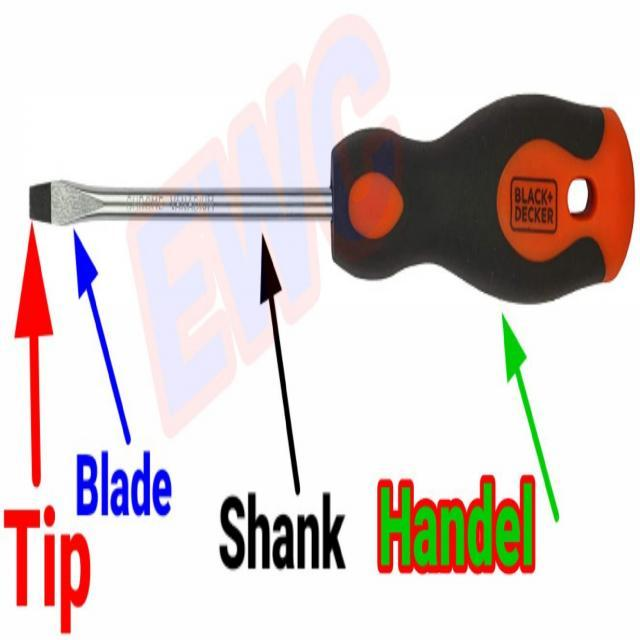screwdriver: (24, 91, 636, 308)
